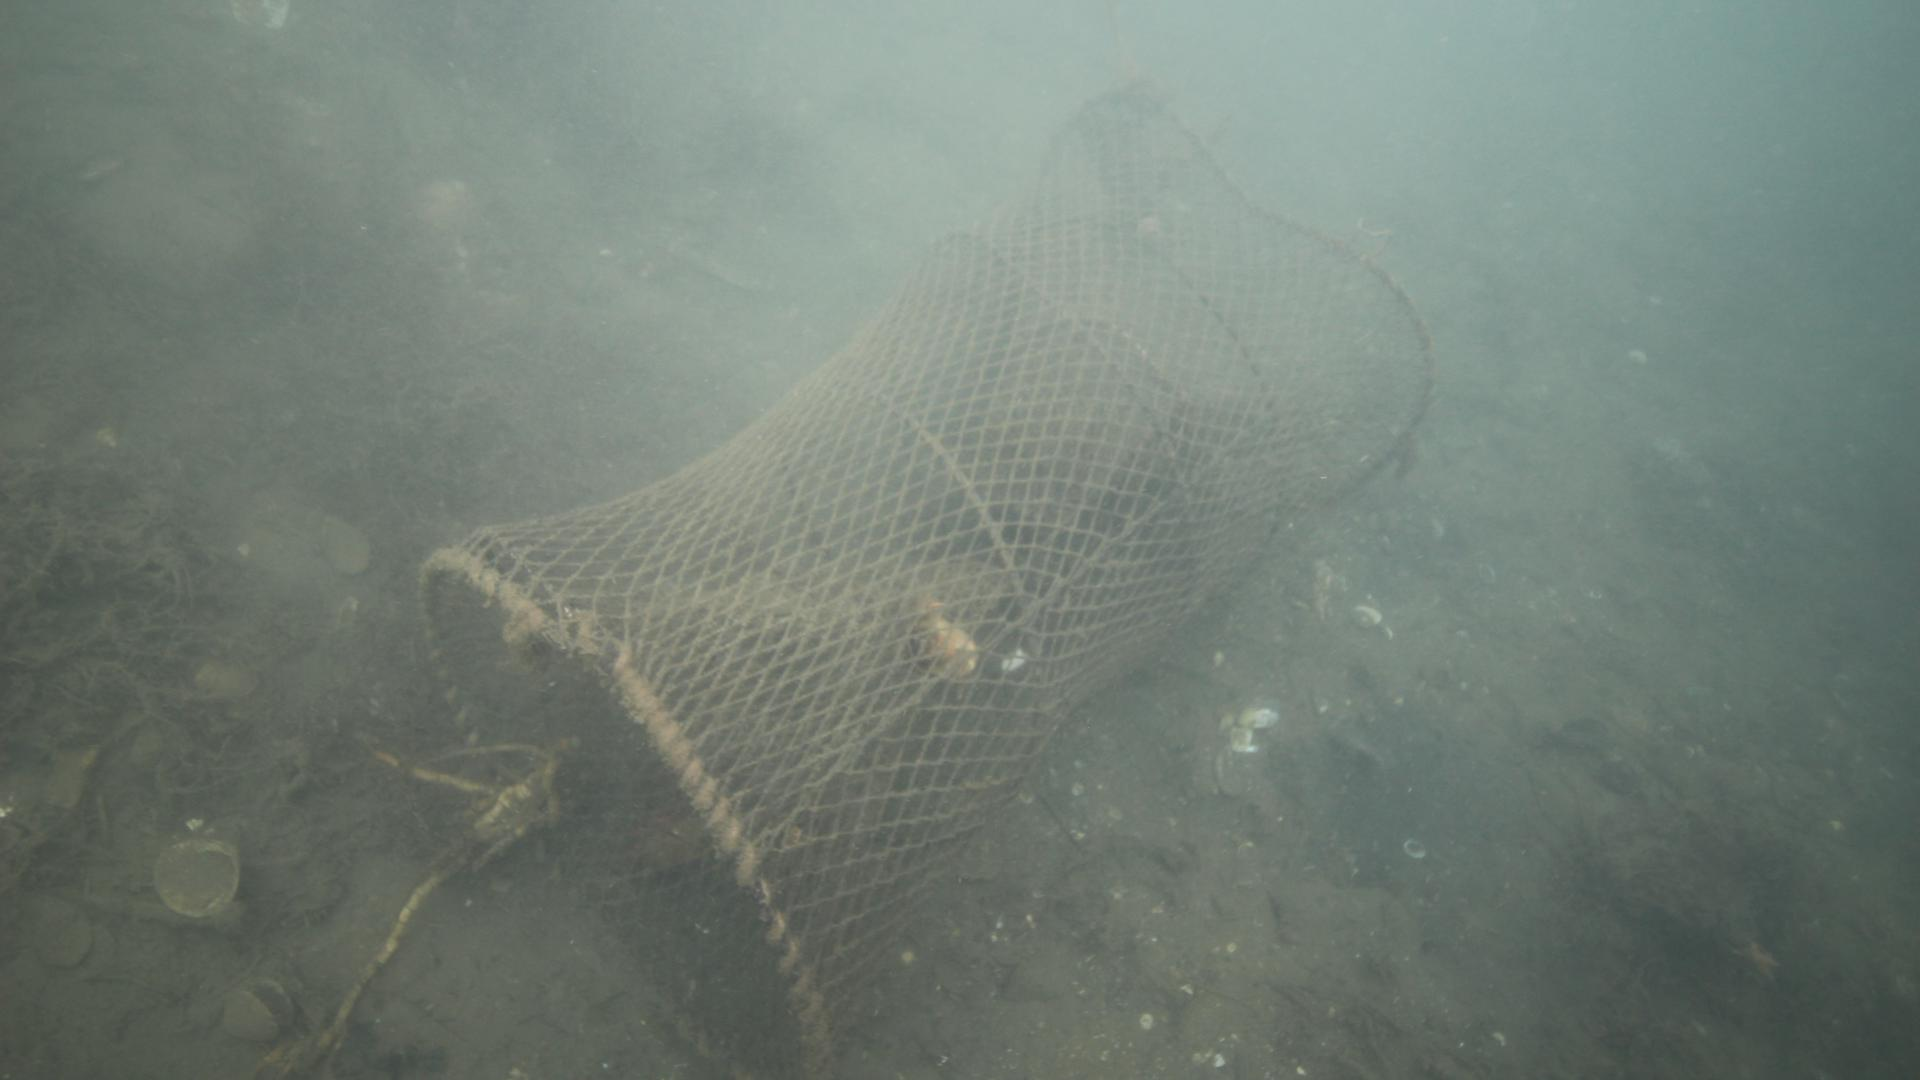spring fish trap: (417, 88, 1435, 1080)
